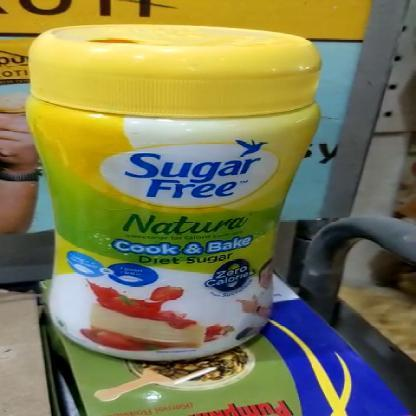SUGAR FREE NATURA DIET SUGAR 80GM: (19, 20, 328, 366)
